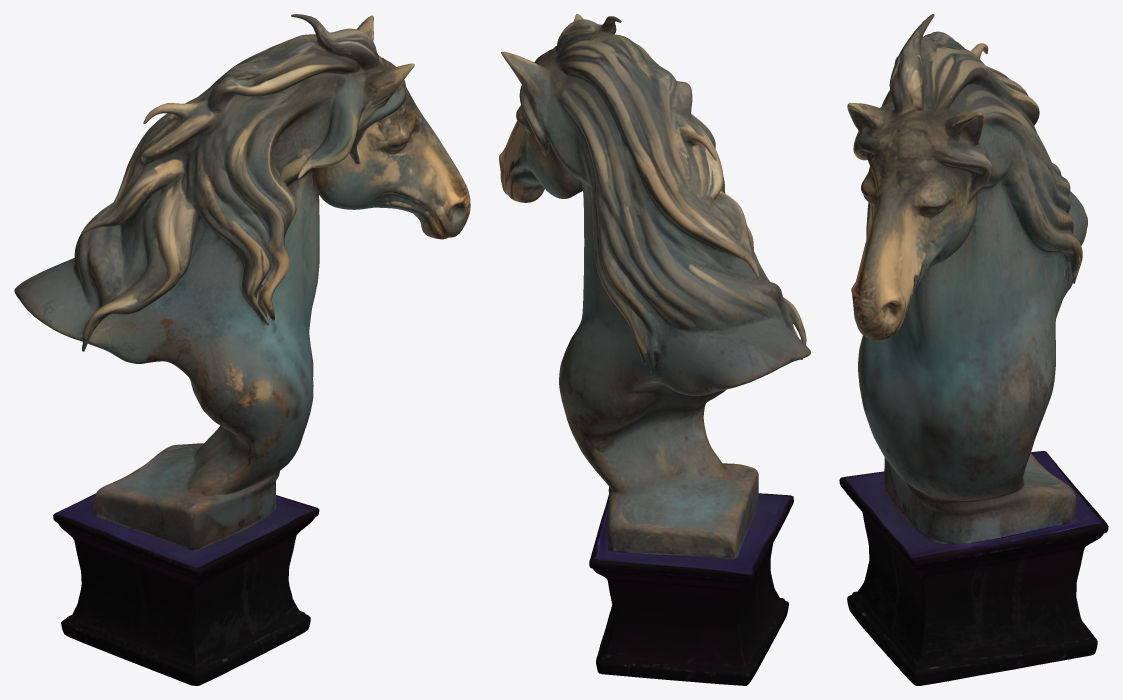
3 views of the same model, side by side, from view 1: azimuth 30°, elevation 25°; view 2: azimuth 150°, elevation 25°; view 3: azimuth 270°, elevation 25° (orthographic). The views are drawn at different scales.
Parts seen in each view (by area): view 1: texture_v128_cfg.001; view 2: texture_v128_cfg.001; view 3: texture_v128_cfg.001.
Boxes of the visible parts, box(x1,y1,x2,y2) form: texture_v128_cfg.001: box(14, 14, 470, 685); texture_v128_cfg.001: box(499, 14, 810, 685); texture_v128_cfg.001: box(839, 14, 1108, 685).
Size of the model in its own units: 0.637 by 0.9885 by 0.3606.
1 material, 1 textured.
